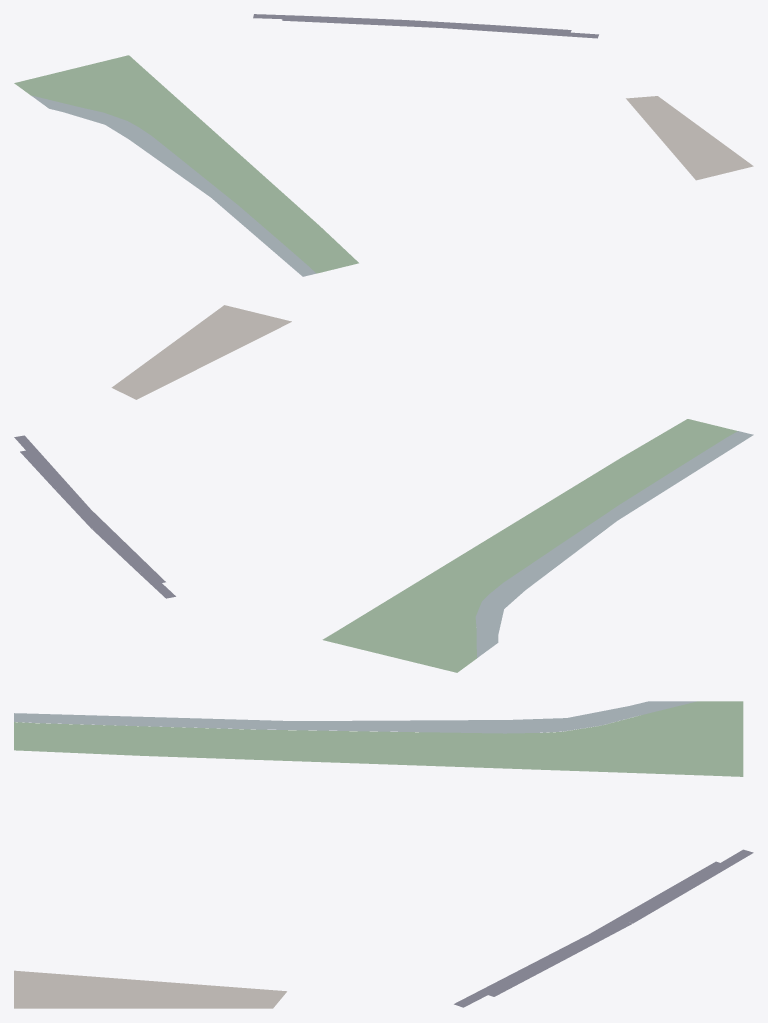
Rendered from 98_97_mid.glb.
The picture shows the model from 3 angles, top to bottom: view 1: azimuth 30°, elevation 25°; view 2: azimuth 150°, elevation 25°; view 3: azimuth 270°, elevation 25°; orthographic projection. The views are drawn at different scales.
Size of the model in its own units: 513 by 7.45 by 507.
